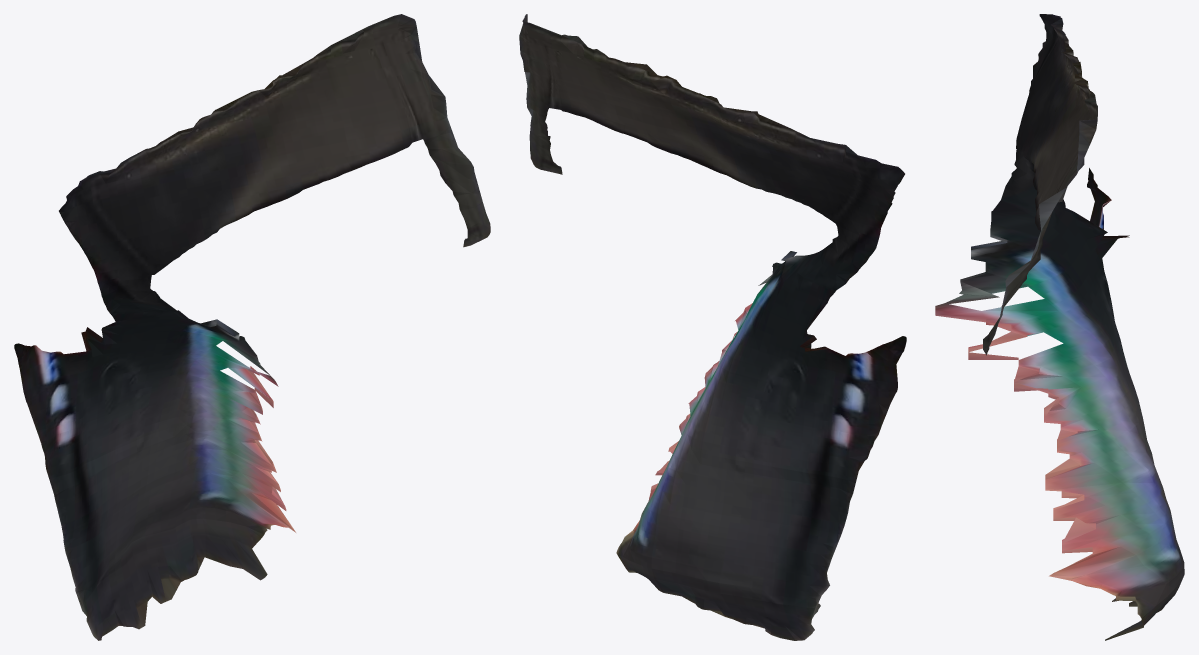
Rendered from observed-surface.glb.
3 views of the same model, side by side, from view 1: azimuth 30°, elevation 25°; view 2: azimuth 150°, elevation 25°; view 3: azimuth 270°, elevation 25° (orthographic). The views are drawn at different scales.
Parts seen in each view (by area): view 1: geometry_0; view 2: geometry_0; view 3: geometry_0.
Boxes of the visible parts, x1,y1,x2,y2 form: geometry_0: (14,14,490,640); geometry_0: (519,14,906,640); geometry_0: (935,14,1184,640).
Size of the model in its own units: 0.5165 by 0.6403 by 0.2323.
Materials: 1 (1 with a texture image).
